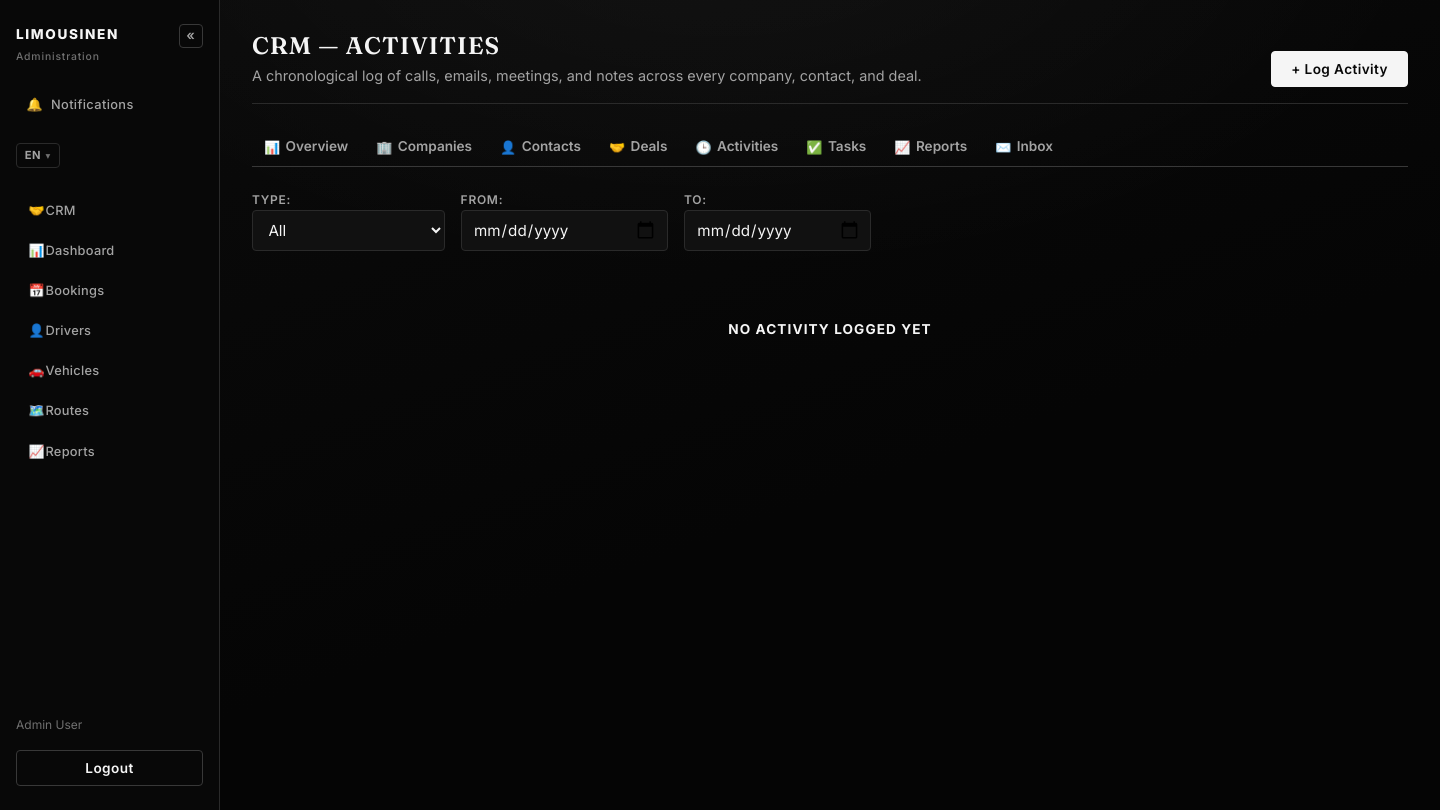
Test: CrmActivitiesPage › rejects logging an activity with an empty subject client-side
This screenshot has width=1440, height=810.
Expected: the text "No Activity Logged Yet" is shown, [728,321,932,337]
Click the button "+ Log Activity" at (1340, 69), box [1271,52,1408,87]
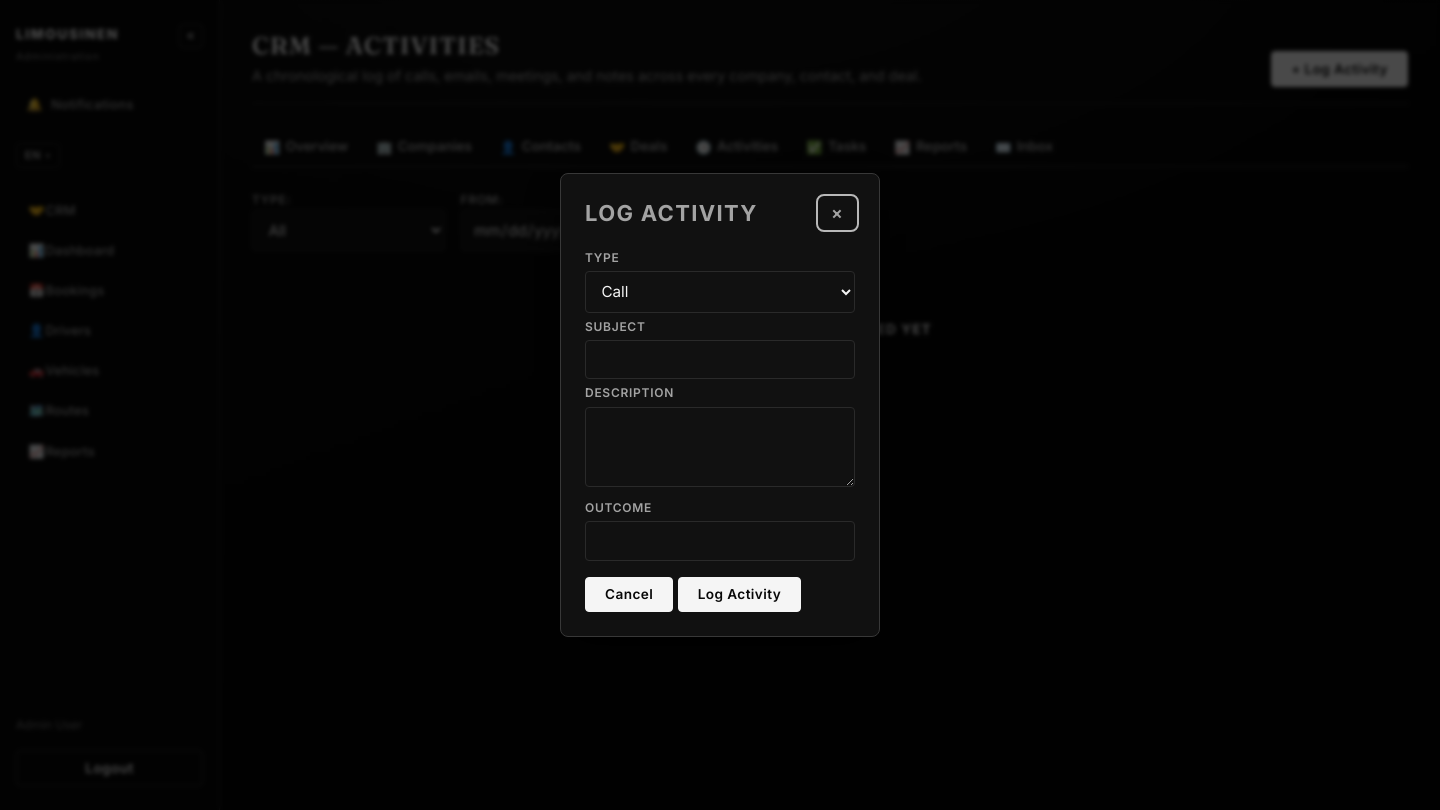
Click the button "Log Activity" at (739, 594), box [678,577,801,612]
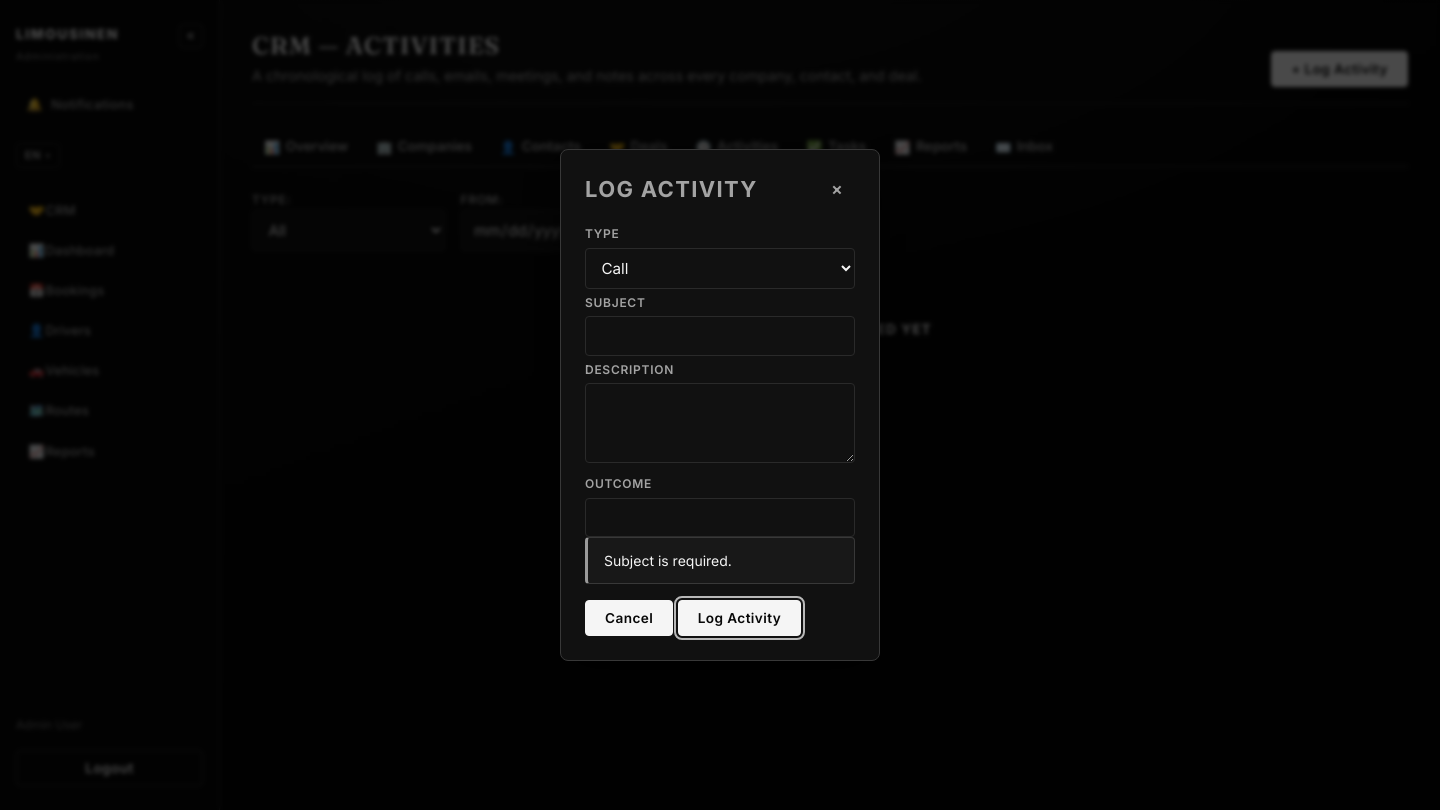
Expected: the text "Subject is required." is shown, [585,537,855,584]
